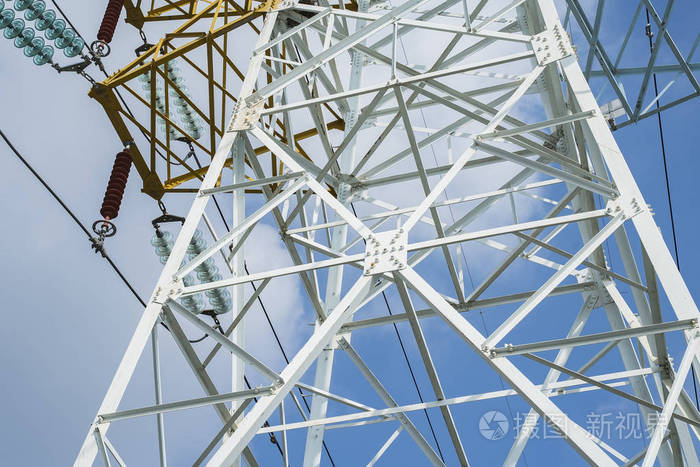insulator: (158, 228, 233, 317), (1, 1, 80, 66), (142, 61, 205, 139)
